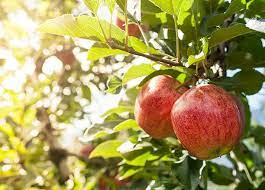apple: (132, 75, 192, 140)
